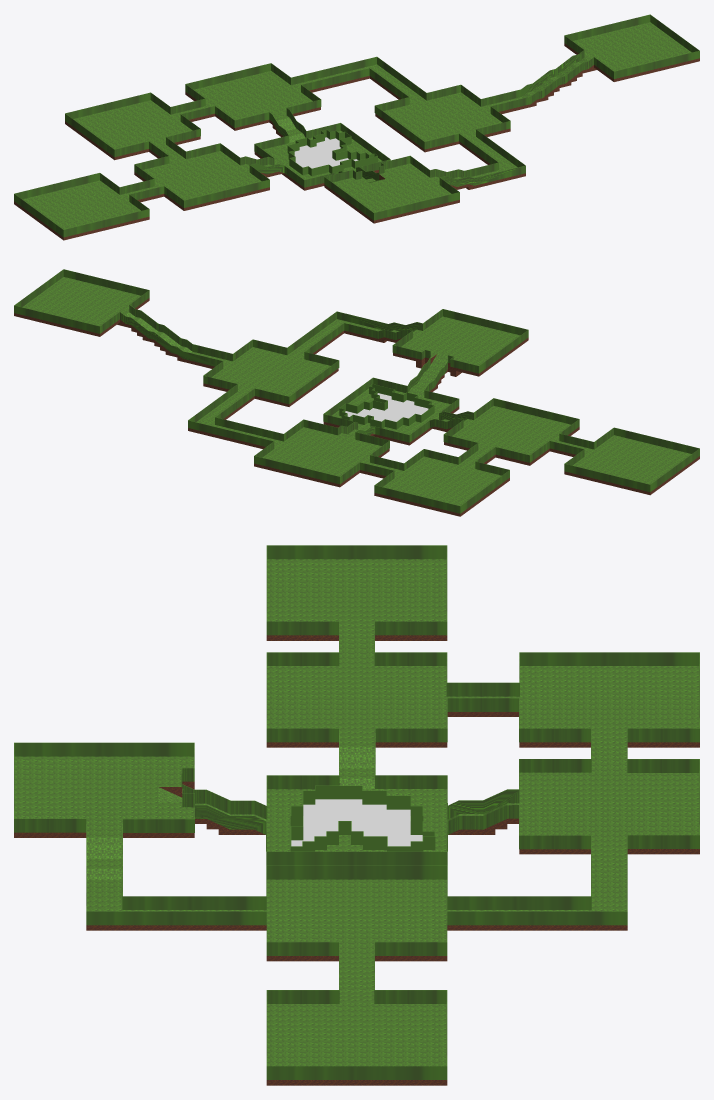
File: world.fbx
3 renders of one model, top to bottom at view 1: azimuth 30°, elevation 25°; view 2: azimuth 150°, elevation 25°; view 3: azimuth 270°, elevation 25°, orthographic. The views are drawn at different scales.
Visible parts, largest first — view 1: Ground, FallGuard, Water; view 2: Ground, FallGuard, Water; view 3: Ground, FallGuard, Water.
Part boxes in pixels (x1,y1,x2,y2): Ground: (14, 22, 699, 240); FallGuard: (14, 14, 699, 237); Water: (294, 137, 358, 168); Ground: (14, 277, 699, 516); FallGuard: (14, 269, 699, 513); Water: (345, 393, 428, 421); Ground: (14, 559, 699, 1085); FallGuard: (14, 545, 699, 1079); Water: (291, 799, 422, 846).
Size of the model in its own units: 88800 by 7000 by 45600.
